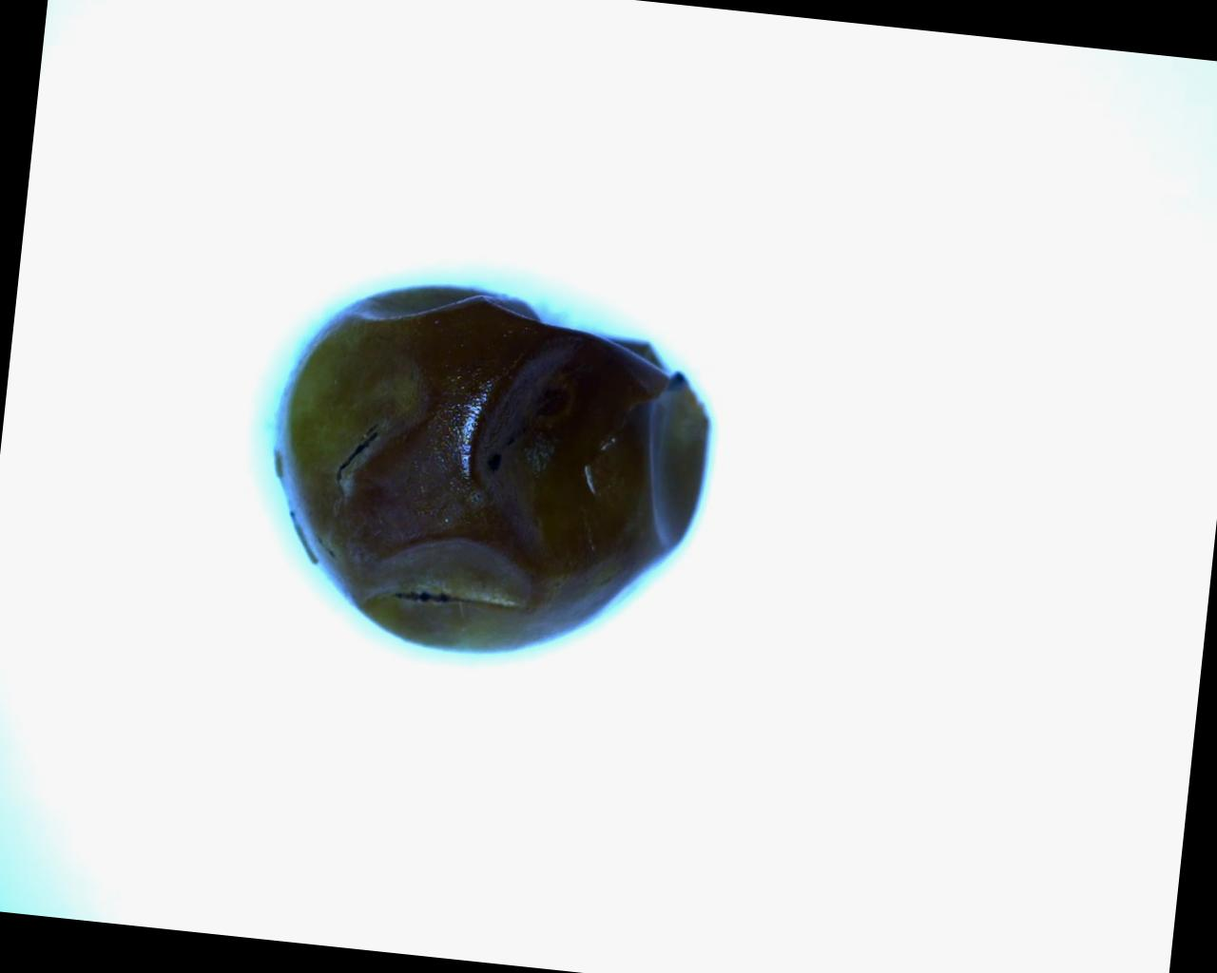Grape Rotten: (251, 265, 725, 677)
